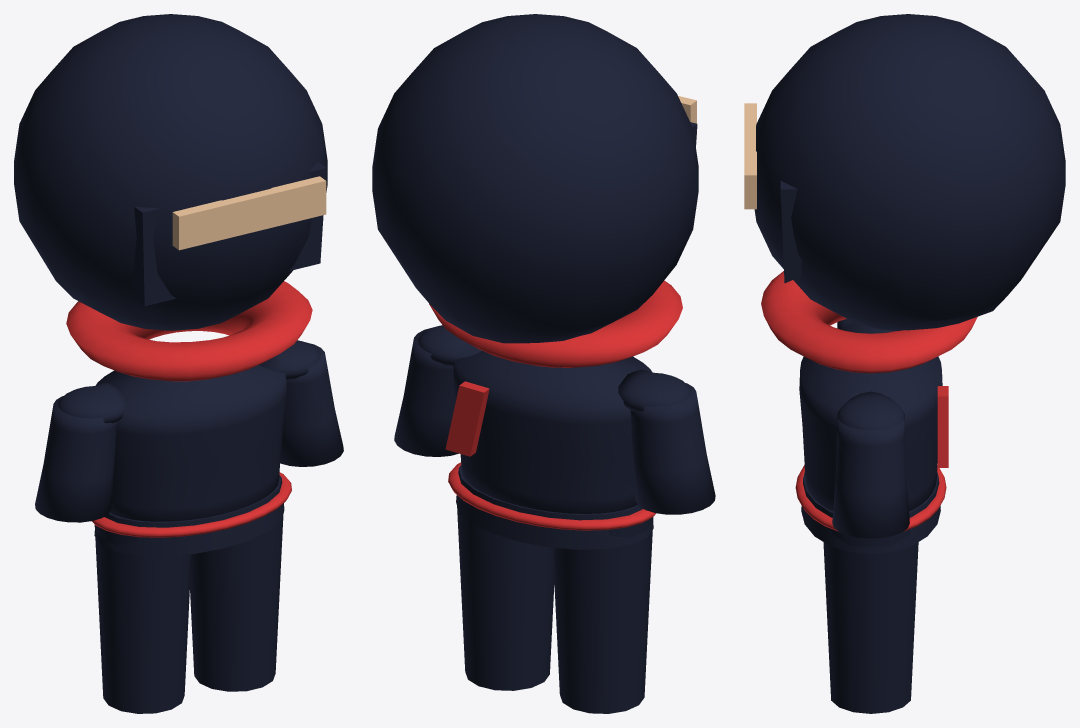
Rendered from suit_cool_1.glb.
3 views of the same model, side by side, from view 1: azimuth 30°, elevation 25°; view 2: azimuth 150°, elevation 25°; view 3: azimuth 270°, elevation 25° (orthographic). The views are drawn at different scales.
Size of the model in its own units: 0.6992 by 1.44 by 0.6487.
